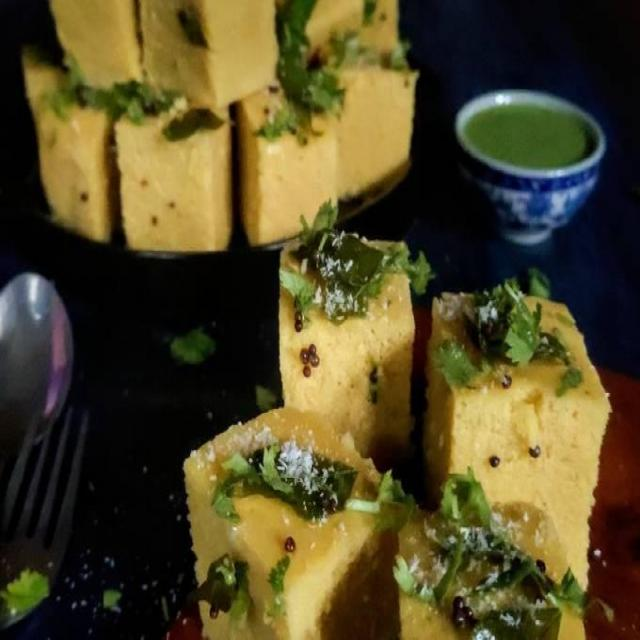dhokla: (183, 260, 640, 640), (26, 1, 413, 242)
